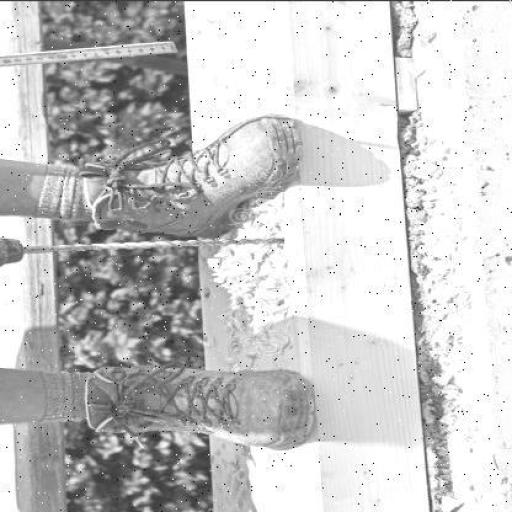safety_shoe: (100, 118, 302, 230), (88, 368, 302, 432)
